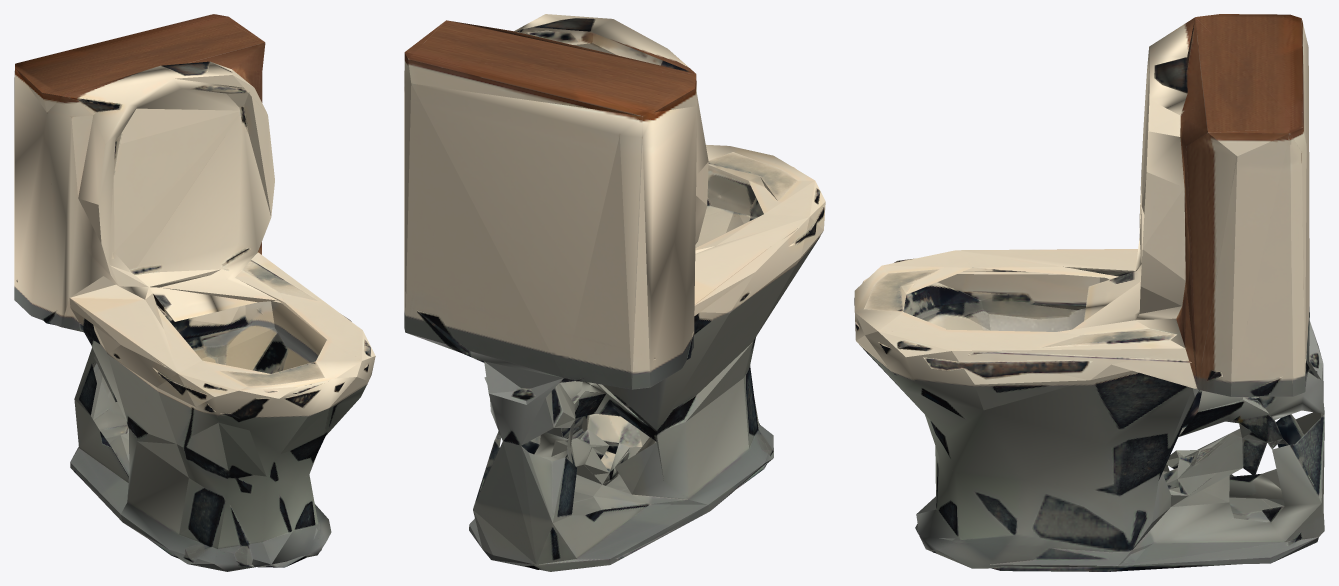
The model's file is ENV_Toilet.fbx.
The picture shows the model from 3 angles, left to right: view 1: azimuth 30°, elevation 25°; view 2: azimuth 150°, elevation 25°; view 3: azimuth 270°, elevation 25°; orthographic projection. The views are drawn at different scales.
Visible parts, largest first — view 1: Mesh_0; view 2: Mesh_0; view 3: Mesh_0.
Part boxes in pixels (box(x1,y1,x2,y2)): Mesh_0: box(14, 14, 375, 571); Mesh_0: box(404, 14, 825, 571); Mesh_0: box(854, 14, 1324, 571).
Bounding box in the file's own units: 106 × 189 × 172.
1 material, 1 textured.
